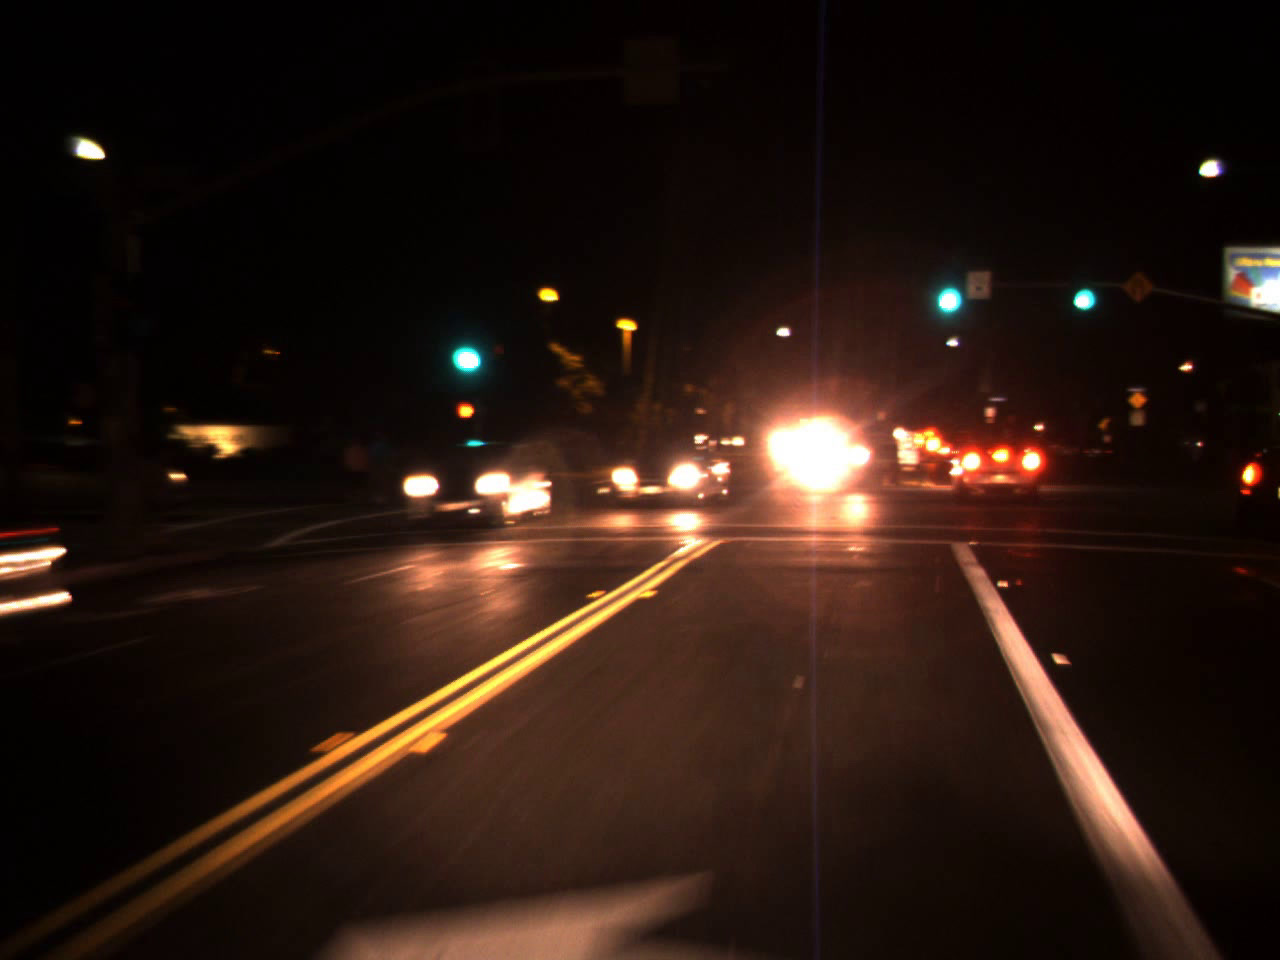go: (439, 312, 487, 384), (927, 254, 966, 323), (1064, 261, 1100, 318)
